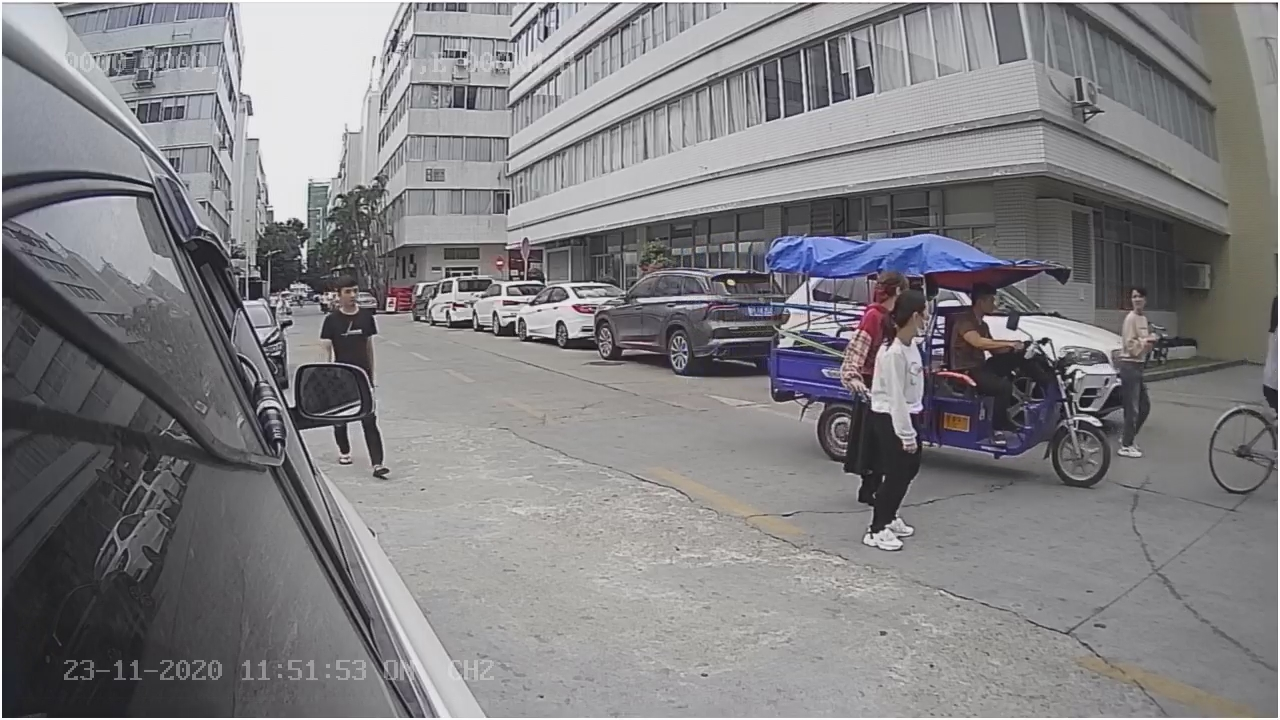person: (855, 291, 935, 562), (1111, 280, 1164, 457)
